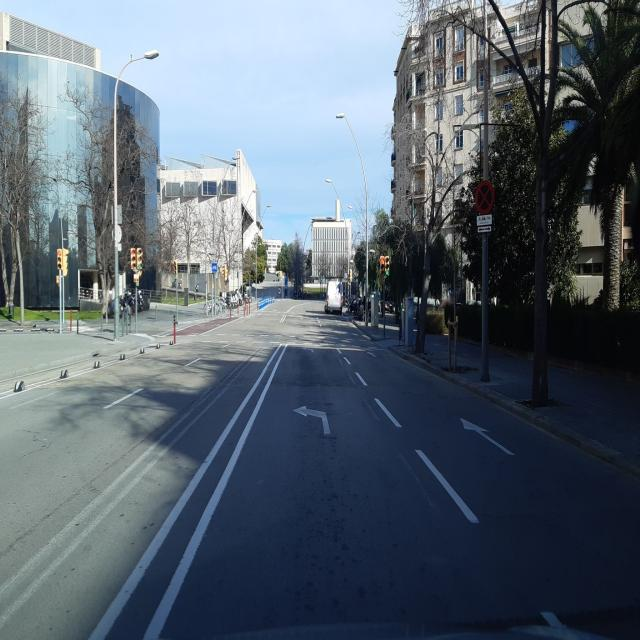car: (325, 278, 343, 314)
